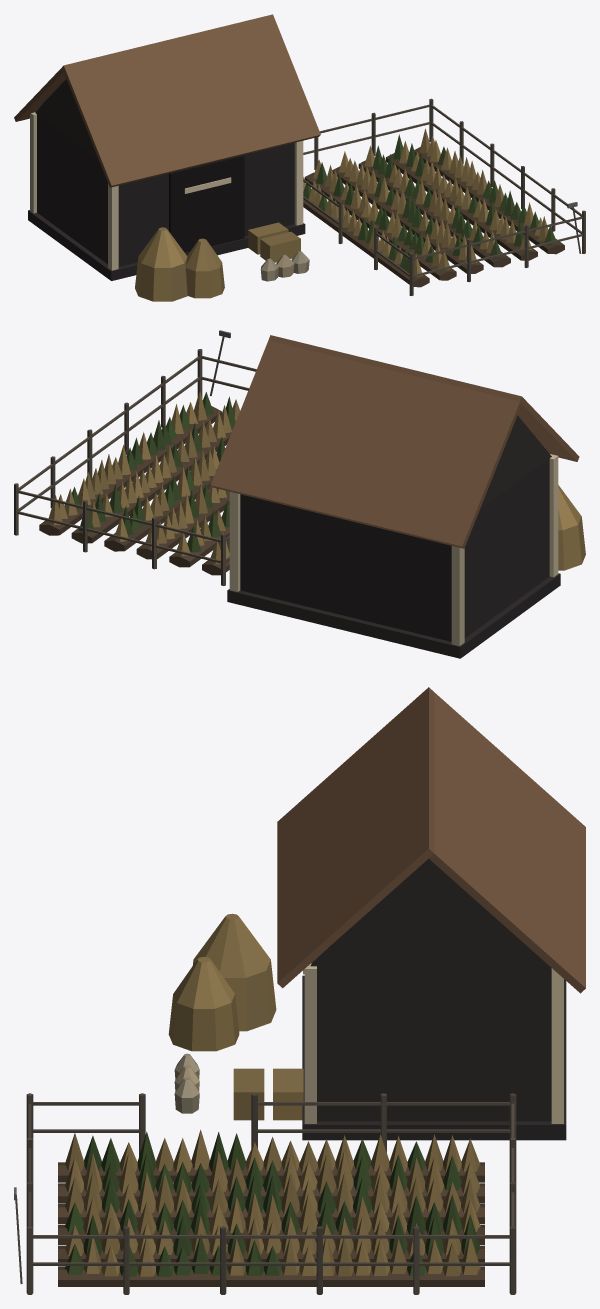
File: walk_ashen_farm.glb
The picture shows the model from 3 angles, top to bottom: view 1: azimuth 30°, elevation 25°; view 2: azimuth 150°, elevation 25°; view 3: azimuth 270°, elevation 25°; orthographic projection. The views are drawn at different scales.
Parts seen in each view (by area): view 1: walk_ashen_farm, walk_ashen_farm_roof; view 2: walk_ashen_farm, walk_ashen_farm_roof; view 3: walk_ashen_farm, walk_ashen_farm_roof.
Part boxes in pixels (x1=…): walk_ashen_farm: x1=28, y1=79, x2=585, y2=301; walk_ashen_farm_roof: x1=14, y1=14, x2=320, y2=187; walk_ashen_farm: x1=14, y1=330, x2=585, y2=658; walk_ashen_farm_roof: x1=211, y1=335, x2=579, y2=548; walk_ashen_farm: x1=14, y1=858, x2=566, y2=1294; walk_ashen_farm_roof: x1=277, y1=687, x2=585, y2=993.
Size of what is drawn, in the model's own units: 12.85 by 6.04 by 10.18.
2 materials, 2 textured.
